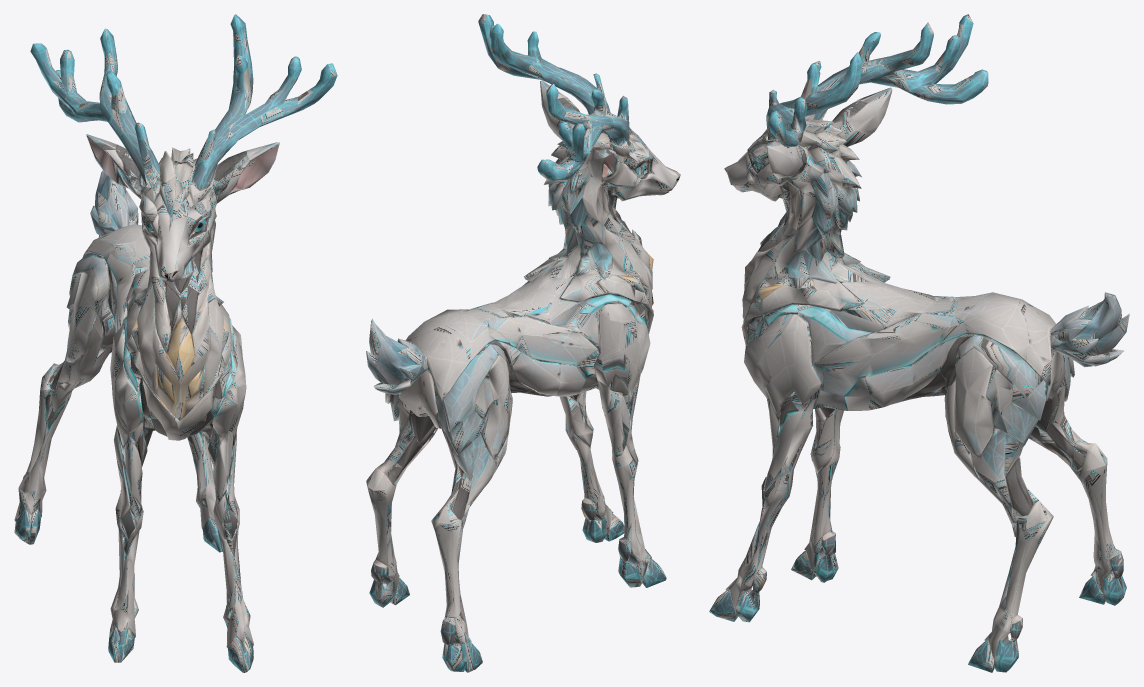
The model's file is deer.glb.
The picture shows the model from 3 angles, left to right: view 1: azimuth 30°, elevation 25°; view 2: azimuth 150°, elevation 25°; view 3: azimuth 270°, elevation 25°; orthographic projection. The views are drawn at different scales.
Bounding box in the file's own units: 0.6063 × 1.6 × 1.03.
1 material, 1 textured.
